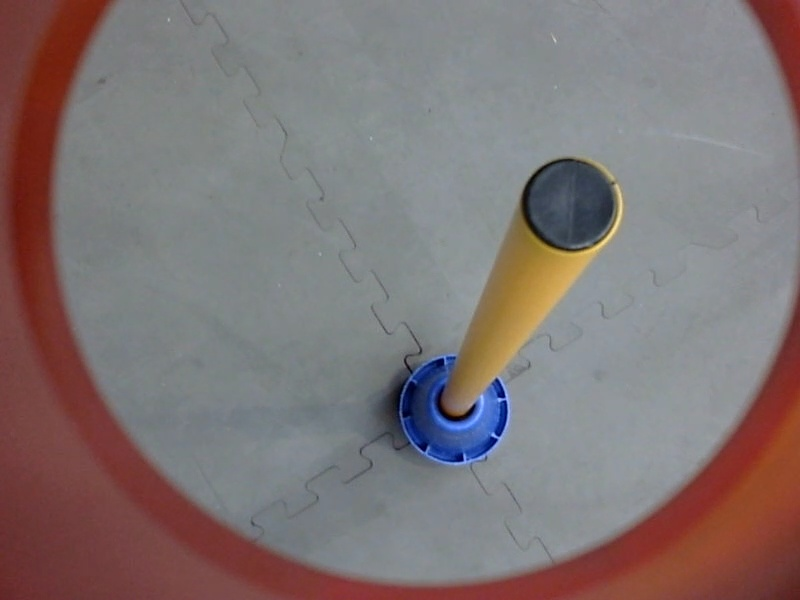tip: (514, 145, 627, 260)
